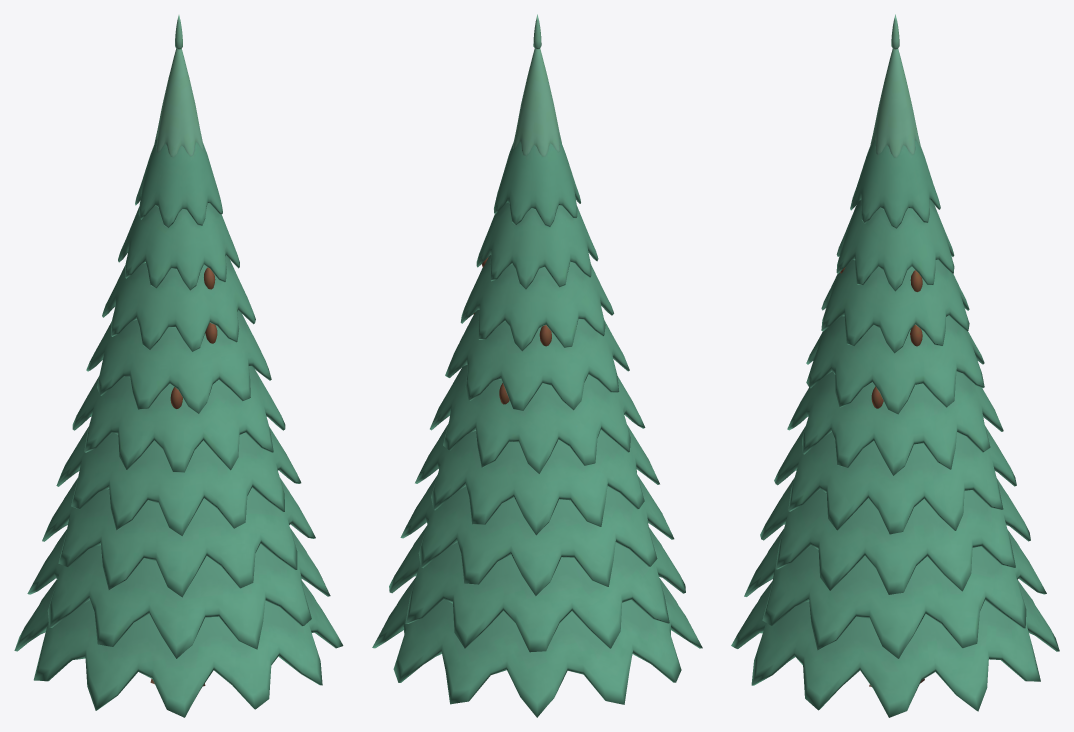
The model's file is spruce-tree.glb.
3 renders of one model, left to right at view 1: azimuth 30°, elevation 25°; view 2: azimuth 150°, elevation 25°; view 3: azimuth 270°, elevation 25°, orthographic.
Visible parts, largest first — view 1: spruce-tree_body; view 2: spruce-tree_body; view 3: spruce-tree_body.
Boxes of the visible parts, x1=… form: spruce-tree_body: x1=14, y1=15, x2=343, y2=717; spruce-tree_body: x1=372, y1=14, x2=702, y2=717; spruce-tree_body: x1=731, y1=14, x2=1059, y2=717.
Size of the model in its own units: 3.49 by 7.79 by 3.49.
Materials: 1 (1 with a texture image).
